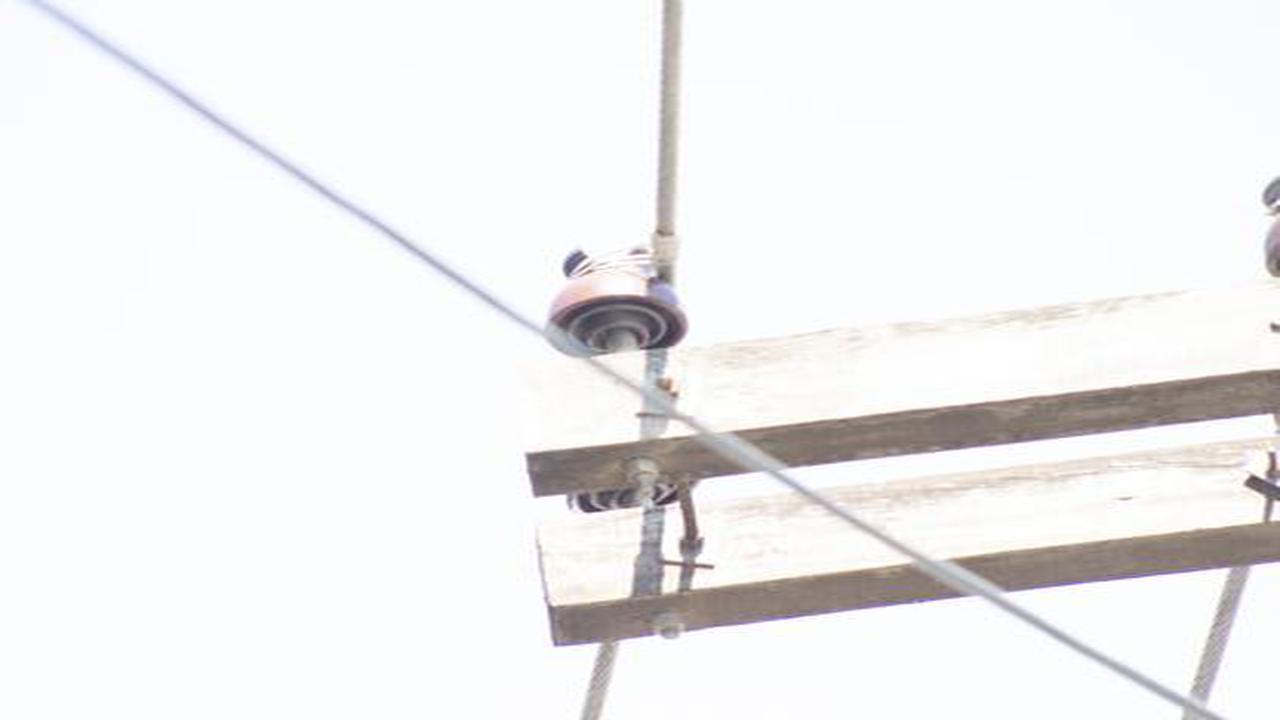insulator_pin: (541, 238, 696, 350)
